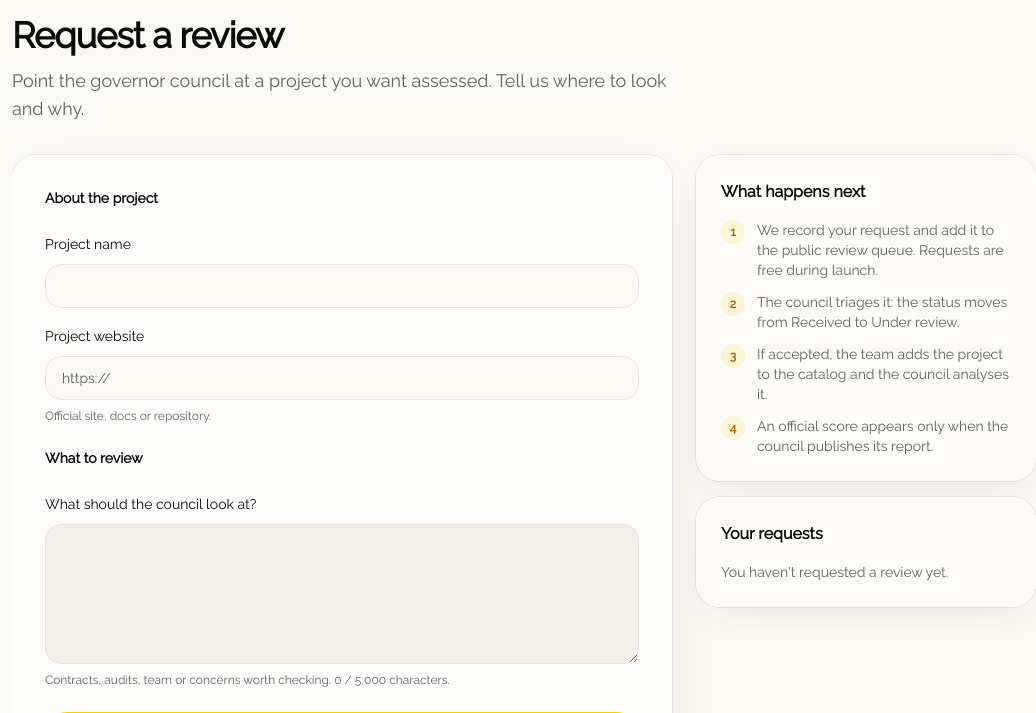
Test: AnalysisRequestPage › signed in › keeps entered data and offers a retry when the server fails
Type "Orbit Bridge" into the field labelled "Project name" at point(342, 286), box [45,264,639,308]
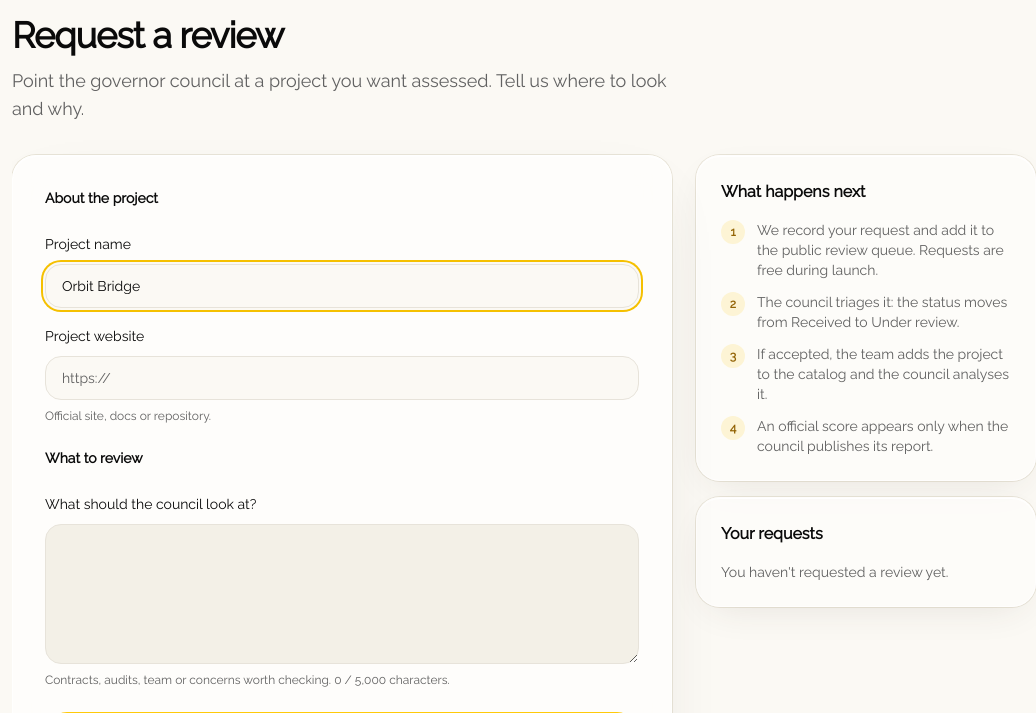
Type "https://orbit.example" into the field labelled "Project website" at point(342, 378), box [45,356,639,400]
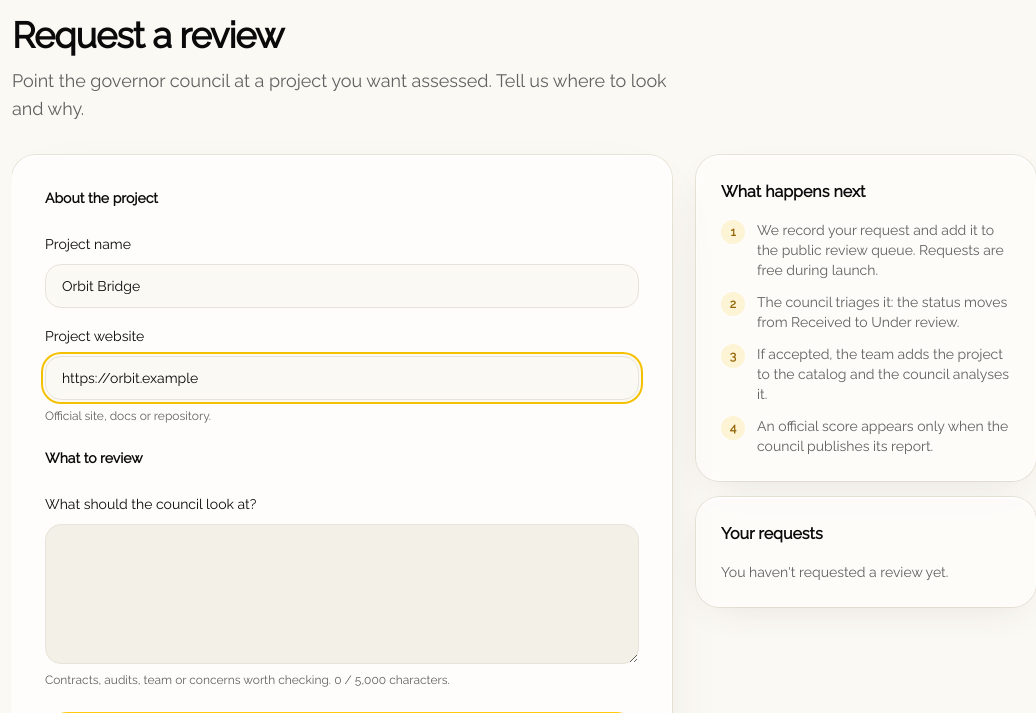
Type "Cross-chain bridge with a new validator set." into the text box labelled "What should the council look at?" at point(342, 594), box [45,524,639,664]
(page scrolled)
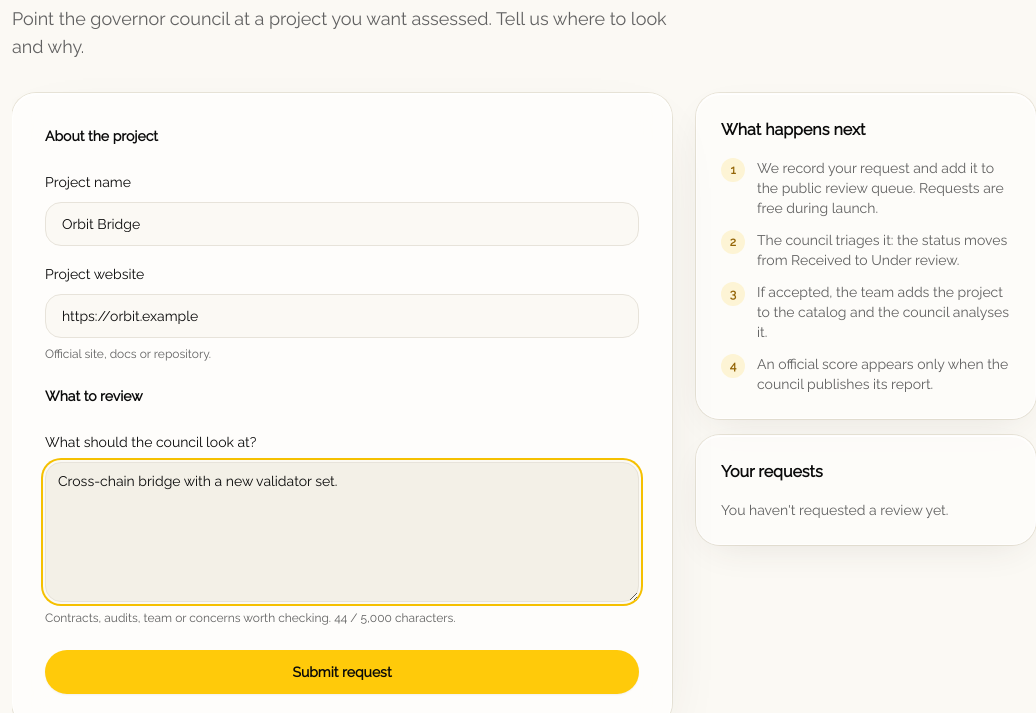
Click the button "Submit request" at point(342, 672), box [45,650,639,694]
(page scrolled)
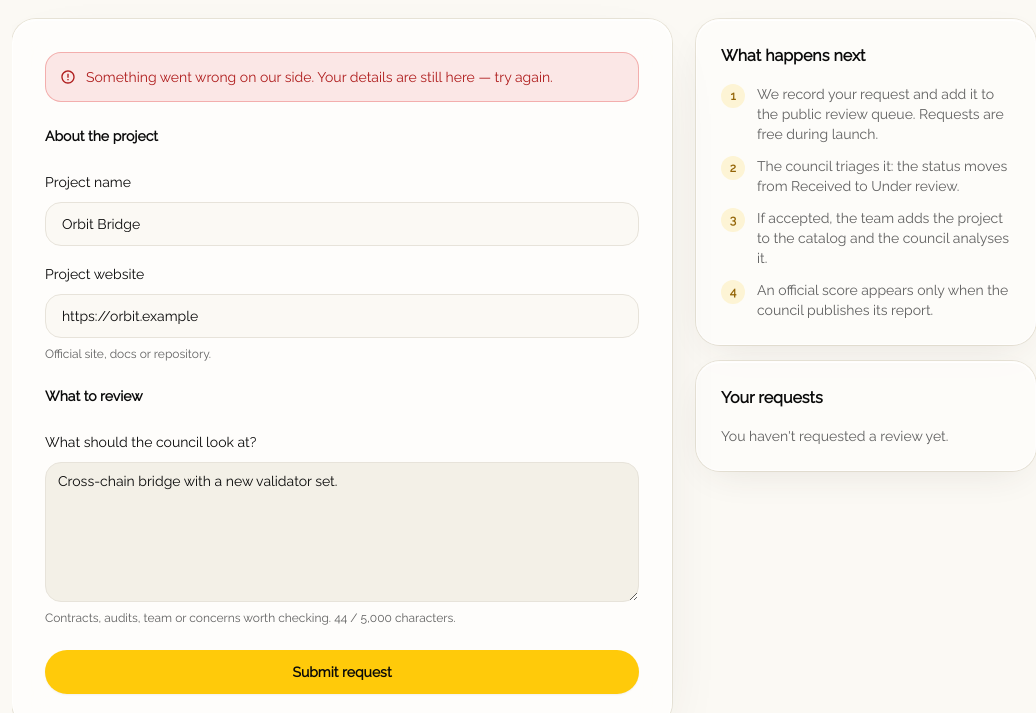
Now the message shows "went wrong on our side", box [86,69,553,85]
Click the button "Submit request" at point(342, 672), box [45,650,639,694]
(page scrolled)
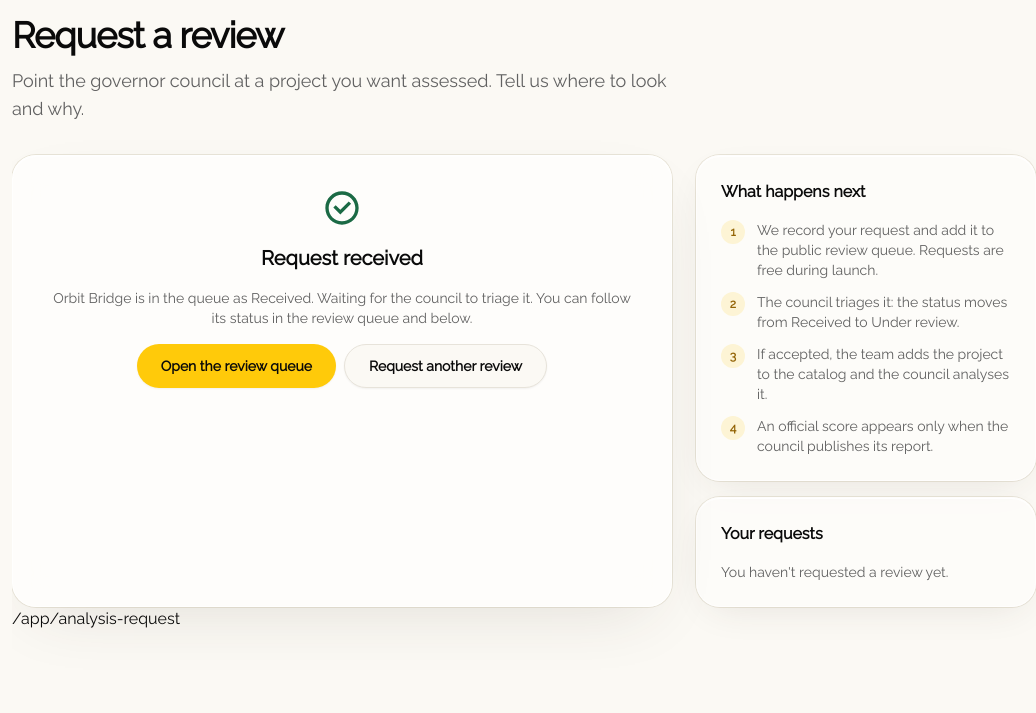
Now the heading "Request received" is shown, box [261,246,423,270]
